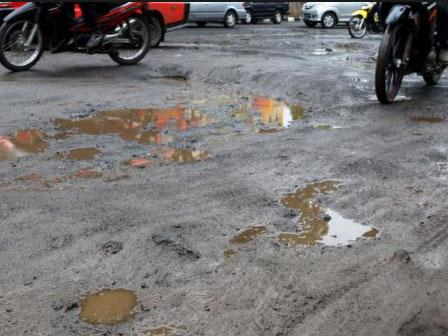Pothole: (0, 86, 343, 176), (214, 180, 383, 260), (74, 286, 180, 336), (142, 70, 192, 82), (406, 112, 445, 126)
